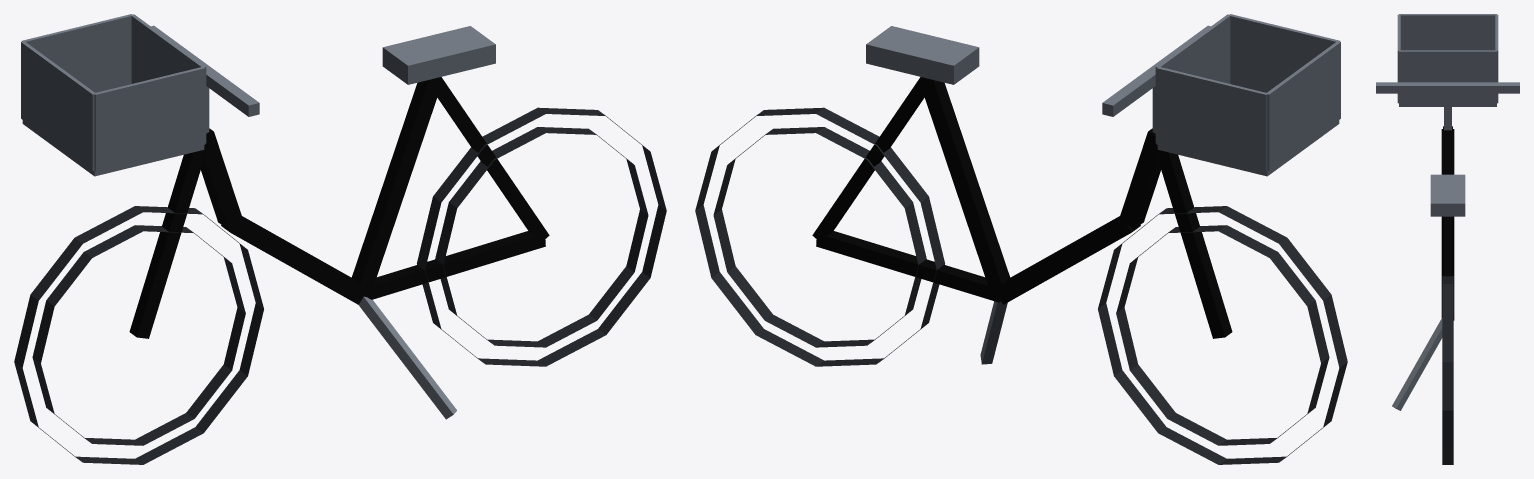
Rendered from Bicycle.fbx.
3 renders of one model, left to right at view 1: azimuth 30°, elevation 25°; view 2: azimuth 150°, elevation 25°; view 3: azimuth 270°, elevation 25°, orthographic. The views are drawn at different scales.
Parts seen in each view (by area): view 1: Parts, Wheels, Frame.001; view 2: Parts, Wheels, Frame.001; view 3: Parts, Wheels, Frame.001.
Boxes of the visible parts, x1=… form: Parts: x1=21, y1=14, x2=495, y2=419; Wheels: x1=14, y1=107, x2=666, y2=464; Frame.001: x1=129, y1=77, x2=549, y2=338; Parts: x1=866, y1=14, x2=1340, y2=364; Wheels: x1=695, y1=107, x2=1347, y2=464; Frame.001: x1=812, y1=77, x2=1232, y2=338; Parts: x1=1376, y1=14, x2=1519, y2=410; Wheels: x1=1442, y1=276, x2=1453, y2=464; Frame.001: x1=1441, y1=126, x2=1454, y2=320.
Bounding box in the file's own units: 1.76 × 1.08 × 0.5.
